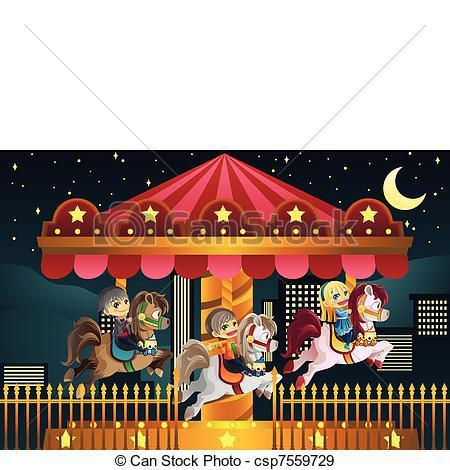horse: (281, 285, 398, 395), (54, 291, 174, 389), (178, 312, 281, 422)
person: (198, 305, 248, 379), (93, 283, 139, 356), (315, 279, 354, 348)
